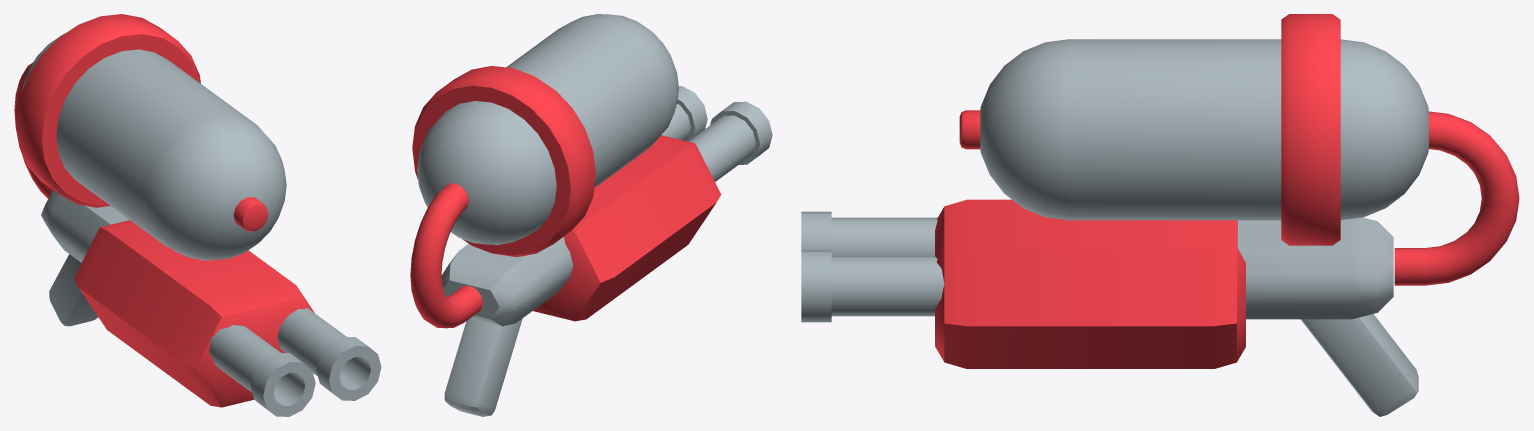
File: blaster_teamRed.glb
3 views of the same model, side by side, from view 1: azimuth 30°, elevation 25°; view 2: azimuth 150°, elevation 25°; view 3: azimuth 270°, elevation 25° (orthographic). The views are drawn at different scales.
Parts seen in each view (by area): view 1: blaster_teamRed; view 2: blaster_teamRed; view 3: blaster_teamRed.
Part boxes in pixels (<box>): blaster_teamRed: <box>14,14,381,416</box>; blaster_teamRed: <box>410,14,772,416</box>; blaster_teamRed: <box>801,14,1519,416</box>.
Bounding box in the file's own units: 0.1594 × 0.2913 × 0.4923.
